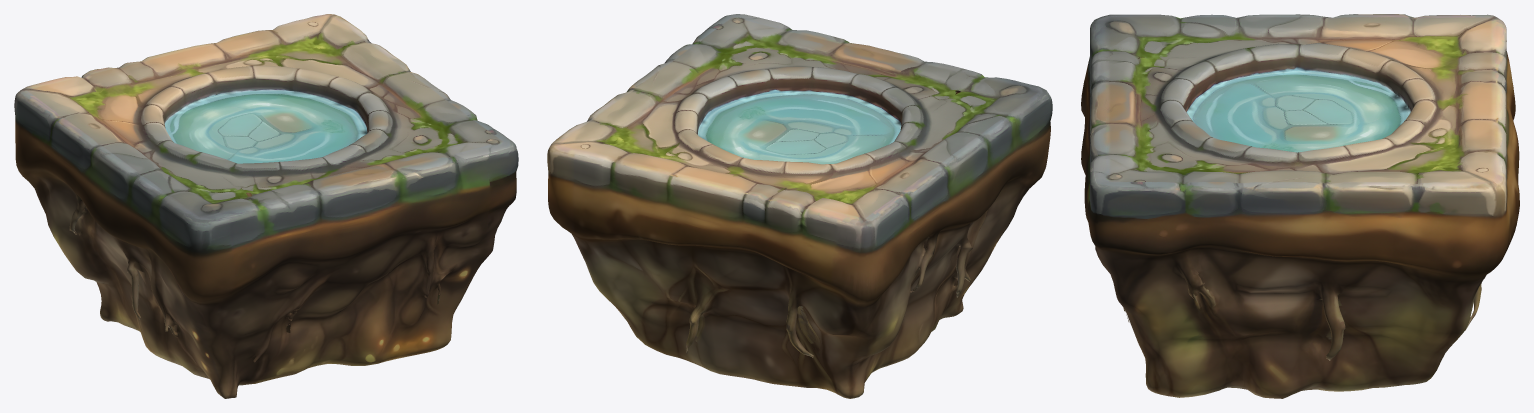
The model's file is Ancient_Stone_Well_Tile.glb.
3 renders of one model, left to right at view 1: azimuth 30°, elevation 25°; view 2: azimuth 150°, elevation 25°; view 3: azimuth 270°, elevation 25°, orthographic. The views are drawn at different scales.
Parts seen in each view (by area): view 1: Mesh_0.001; view 2: Mesh_0.001; view 3: Mesh_0.001.
Boxes of the visible parts, left/top/right/bottom form: Mesh_0.001: left=14, top=14, right=518, bottom=398; Mesh_0.001: left=547, top=14, right=1052, bottom=398; Mesh_0.001: left=1081, top=14, right=1519, bottom=398.
Bounding box in the file's own units: 6.63 × 4 × 6.57.
1 material, 1 textured.
